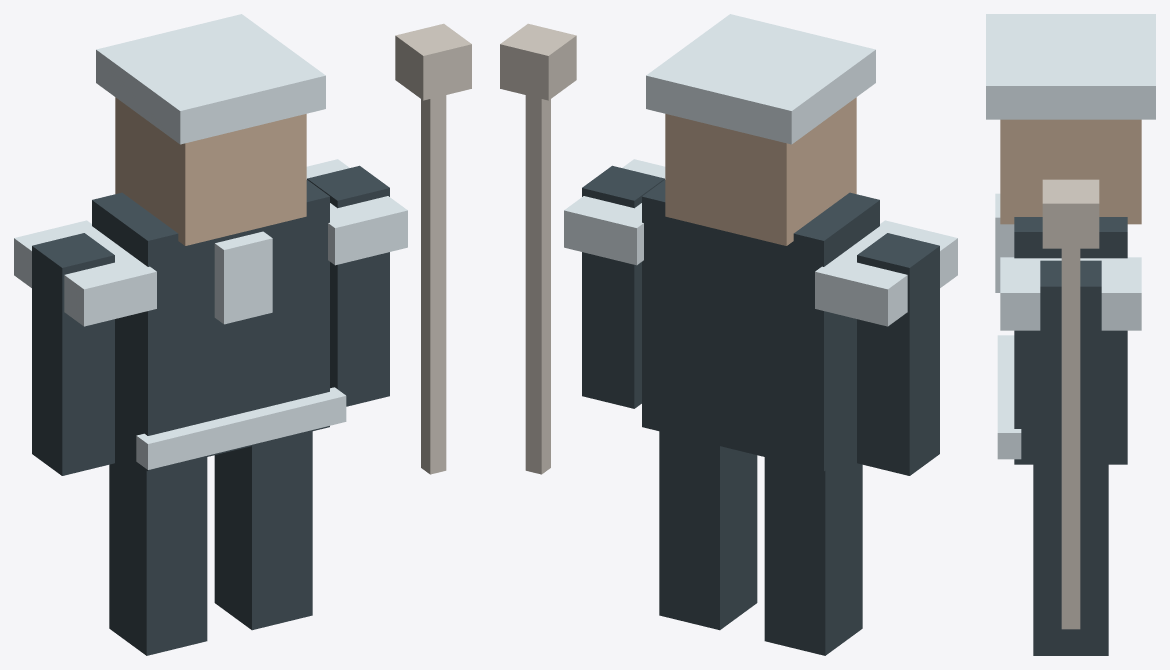
The model's file is 08_tovin_runeclasp_watcher_of_intake.glb.
3 views of the same model, side by side, from view 1: azimuth 30°, elevation 25°; view 2: azimuth 150°, elevation 25°; view 3: azimuth 270°, elevation 25° (orthographic).
Parts seen in each view (by area): view 1: Tovin Runeclasp, Watcher of Intake; view 2: Tovin Runeclasp, Watcher of Intake; view 3: Tovin Runeclasp, Watcher of Intake.
Boxes of the visible parts, x1,y1,x2,y2 form: Tovin Runeclasp, Watcher of Intake: (14,14,471,655); Tovin Runeclasp, Watcher of Intake: (500,14,957,655); Tovin Runeclasp, Watcher of Intake: (986,14,1155,655).
Bounding box in the file's own units: 1.08 × 1.41 × 0.3839.
